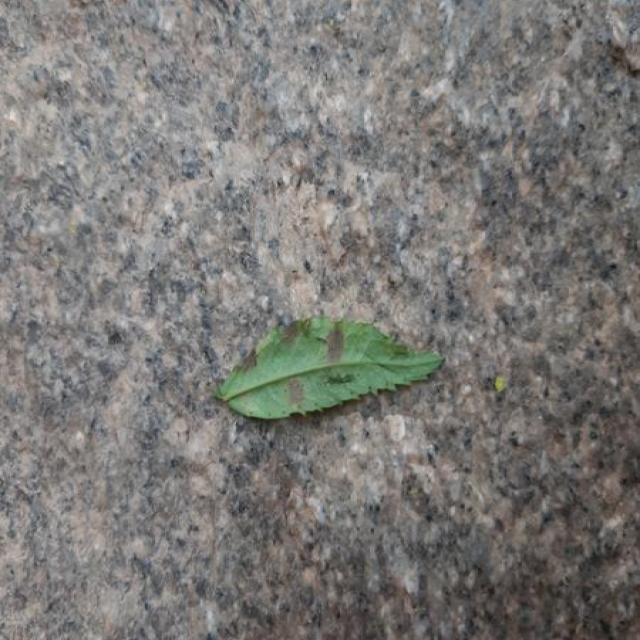marigold: (217, 316, 443, 418)
